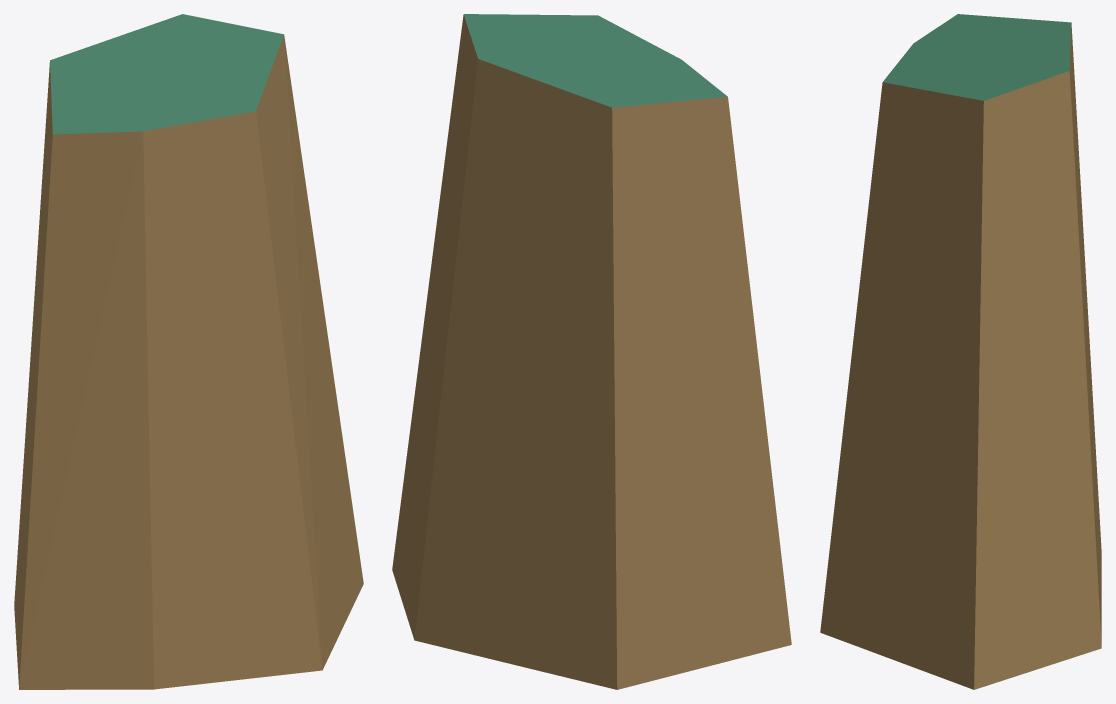
The model's file is Rock_Medium_Mesa_Eroded_Moss_Grass_10.FBX.
The picture shows the model from 3 angles, left to right: view 1: azimuth 30°, elevation 25°; view 2: azimuth 150°, elevation 25°; view 3: azimuth 270°, elevation 25°; orthographic projection. The views are drawn at different scales.
Parts seen in each view (by area): view 1: Rock_Medium_Mesa_Eroded_Moss_Grass_10; view 2: Rock_Medium_Mesa_Eroded_Moss_Grass_10; view 3: Rock_Medium_Mesa_Eroded_Moss_Grass_10.
Boxes of the visible parts, x1,y1,x2,y2 form: Rock_Medium_Mesa_Eroded_Moss_Grass_10: (14,14,363,689); Rock_Medium_Mesa_Eroded_Moss_Grass_10: (392,14,791,689); Rock_Medium_Mesa_Eroded_Moss_Grass_10: (820,14,1101,689).
Bounding box in the file's own units: 2615 × 3855 × 1770.
